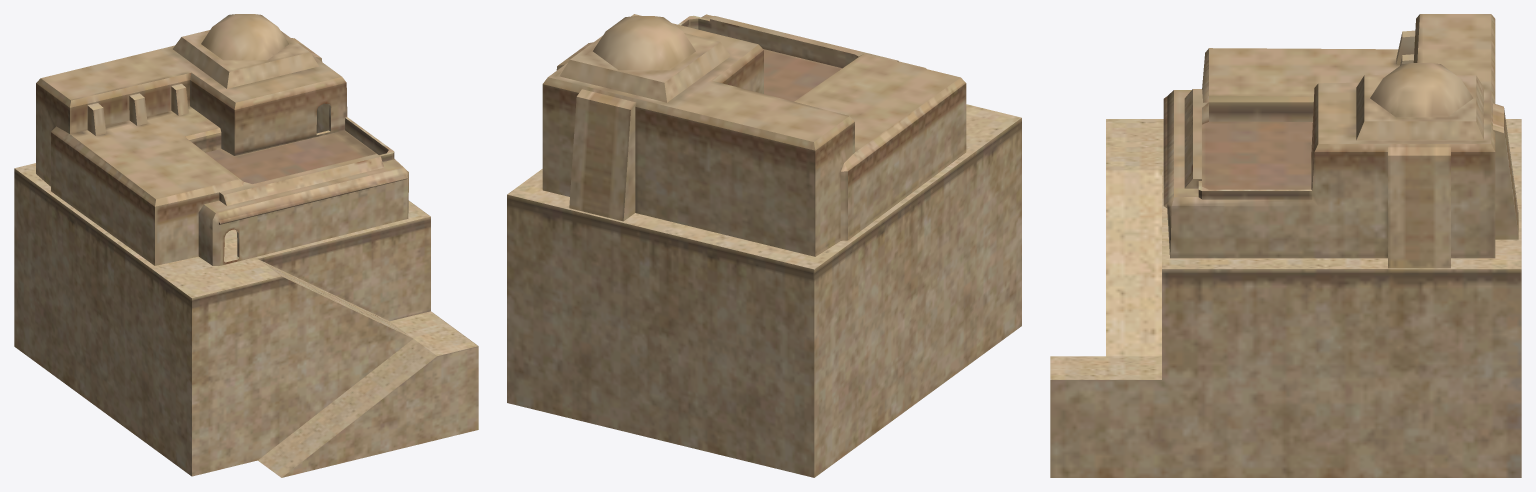
File: ply_tato_house_m_s01_fp1_r0_mesh_l2.fbx
3 views of the same model, side by side, from view 1: azimuth 30°, elevation 25°; view 2: azimuth 150°, elevation 25°; view 3: azimuth 270°, elevation 25° (orthographic). The views are drawn at different scales.
Visible parts, largest first — view 1: mesh_node; view 2: mesh_node; view 3: mesh_node.
Boxes of the visible parts, bbox=[...] form: mesh_node: bbox=[14, 14, 478, 477]; mesh_node: bbox=[507, 14, 1021, 477]; mesh_node: bbox=[1050, 14, 1521, 477].
Size of the model in its own units: 25.47 by 29.03 by 33.78.
